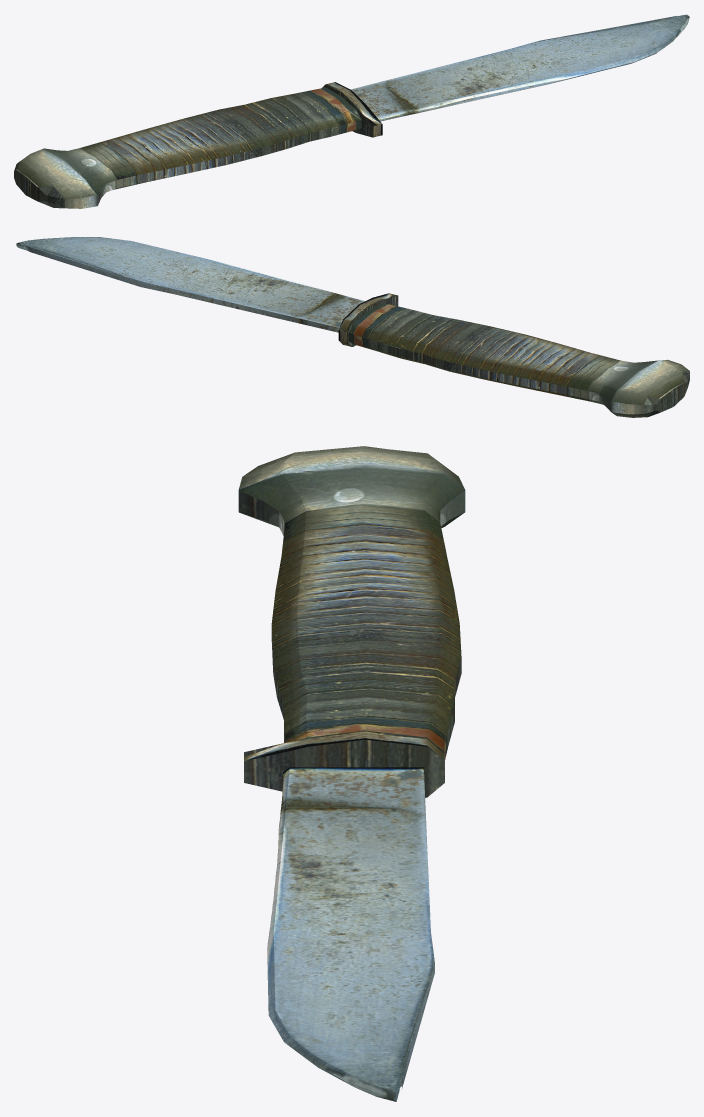
Rendered from knife.fbx.
3 renders of one model, top to bottom at view 1: azimuth 30°, elevation 25°; view 2: azimuth 150°, elevation 25°; view 3: azimuth 270°, elevation 25°, orthographic. The views are drawn at different scales.
Visible parts, largest first — view 1: Cube; view 2: Cube; view 3: Cube.
Boxes of the visible parts, x1,y1,x2,y2 form: Cube: (14, 14, 689, 208); Cube: (16, 237, 689, 417); Cube: (238, 446, 465, 1101).
Bounding box in the file's own units: 492 × 24.01 × 74.13.
